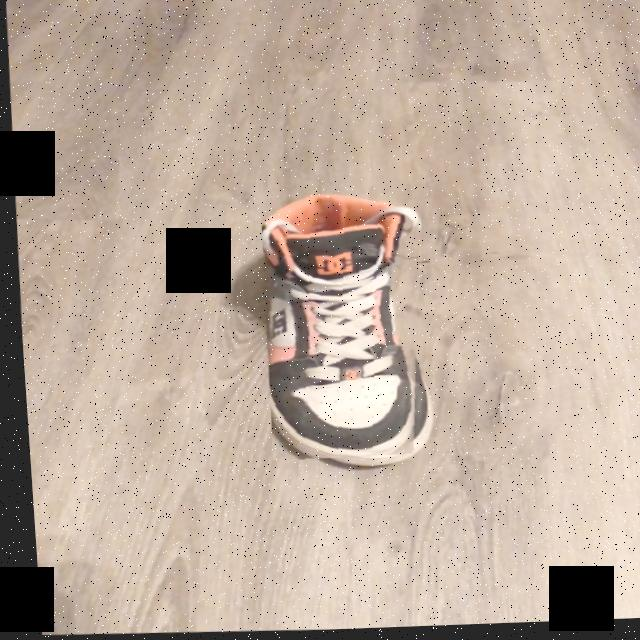shoe: (258, 197, 416, 460)
